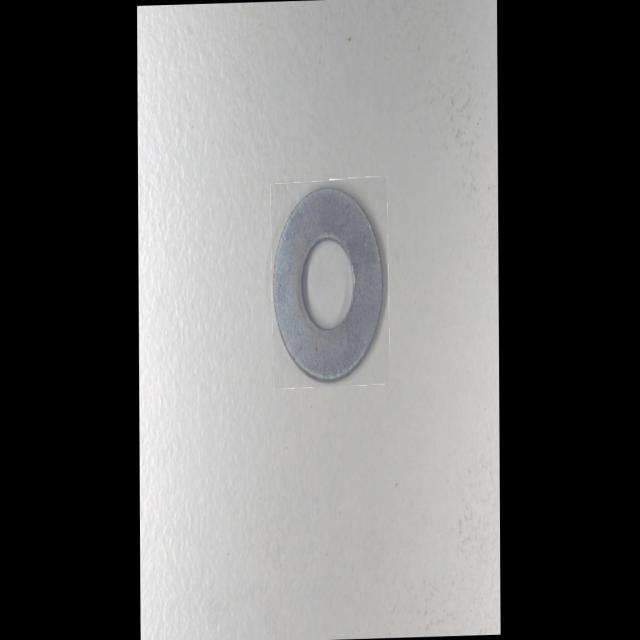washer: (272, 178, 388, 384)
